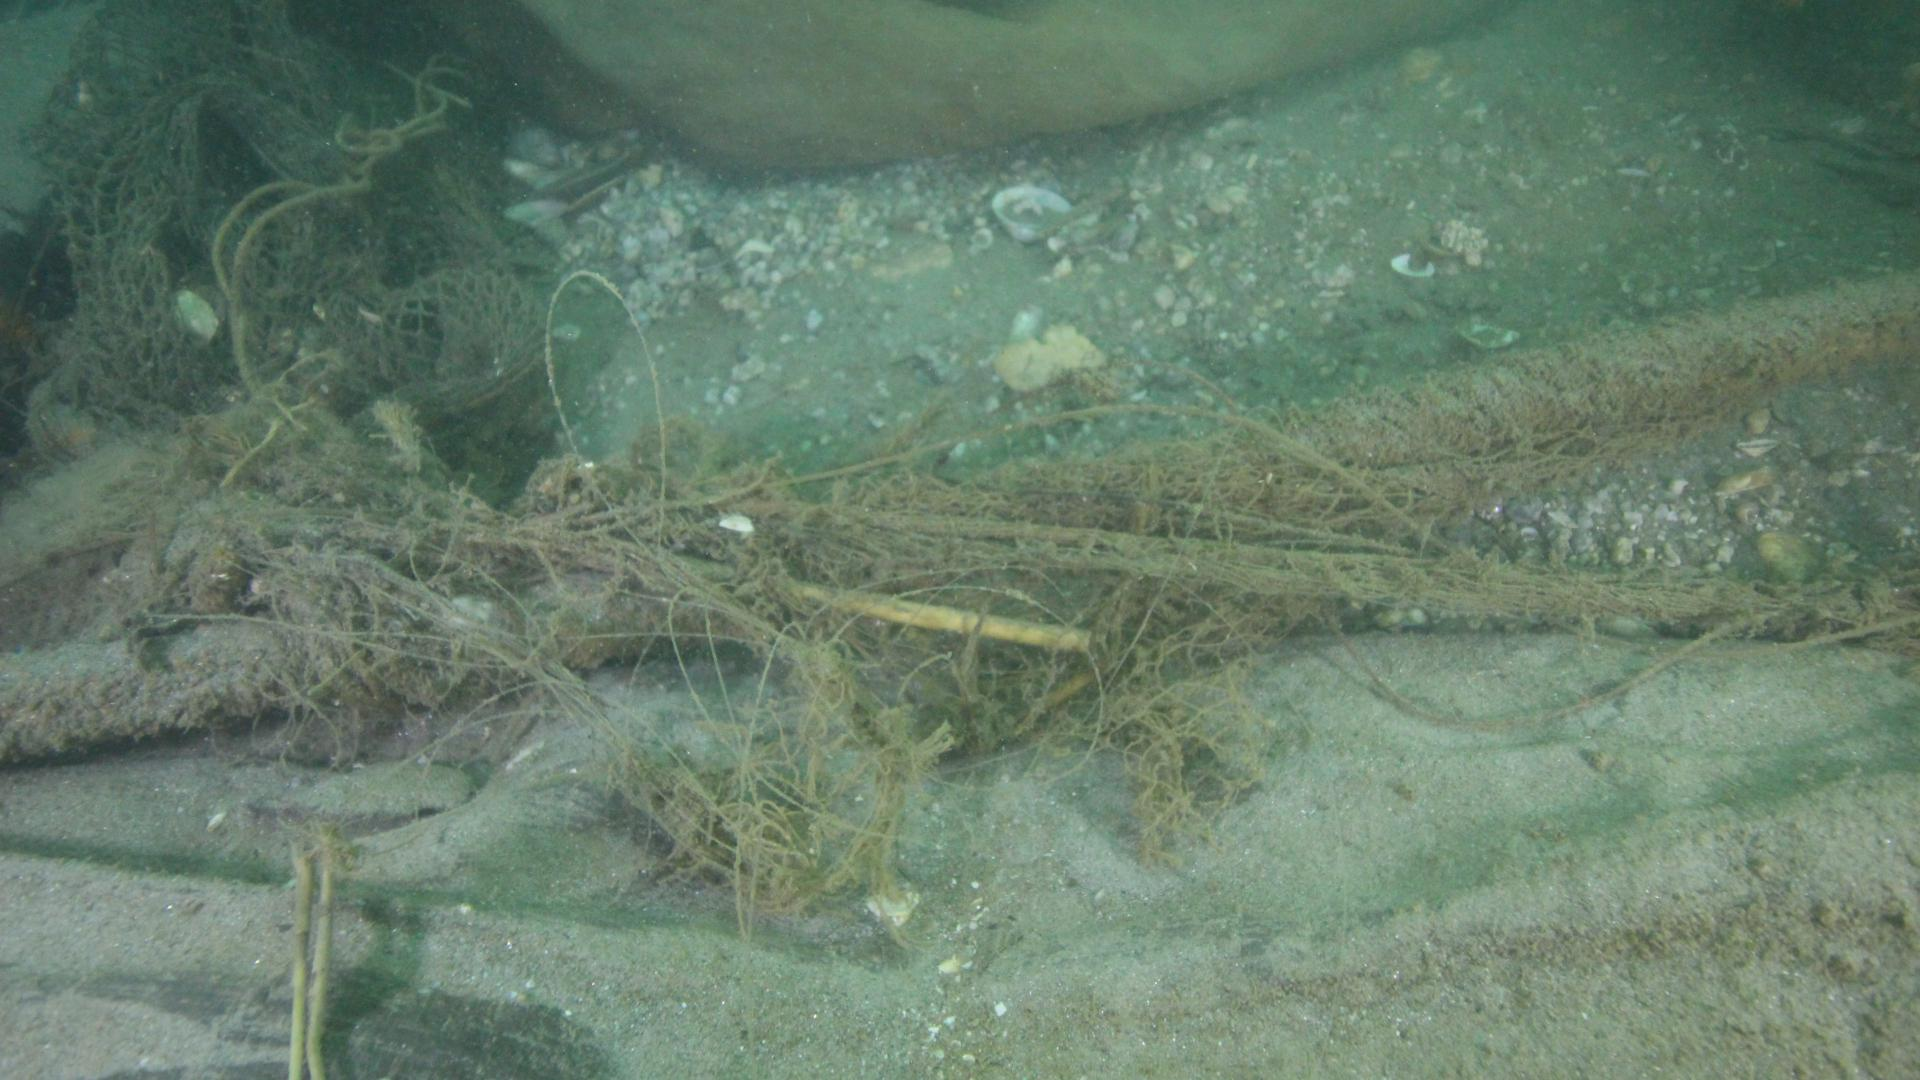fish net: (36, 0, 556, 427)
rope: (0, 276, 1920, 767)
